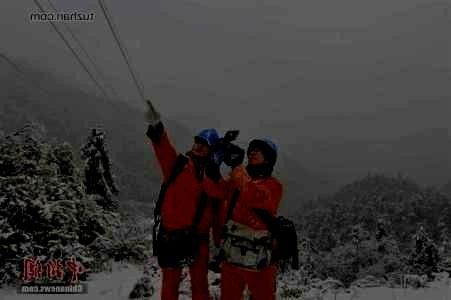helmet: (247, 138, 278, 173), (193, 128, 220, 159)
